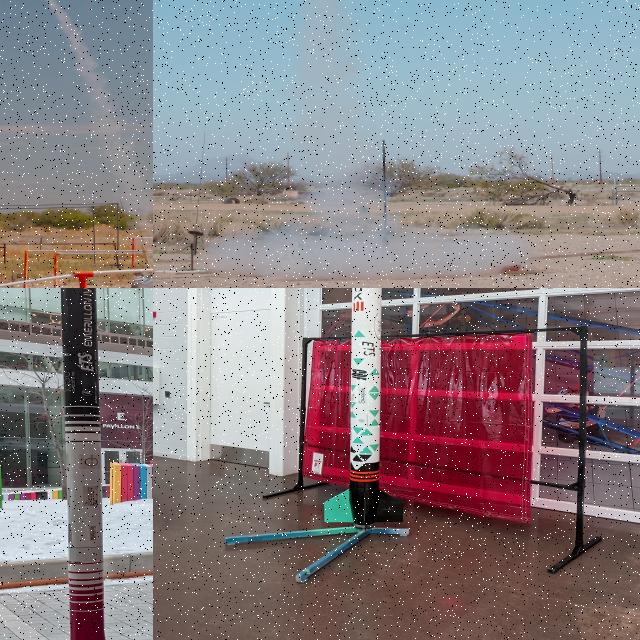Rocket: (324, 288, 404, 526), (61, 288, 106, 640), (140, 244, 153, 279)
